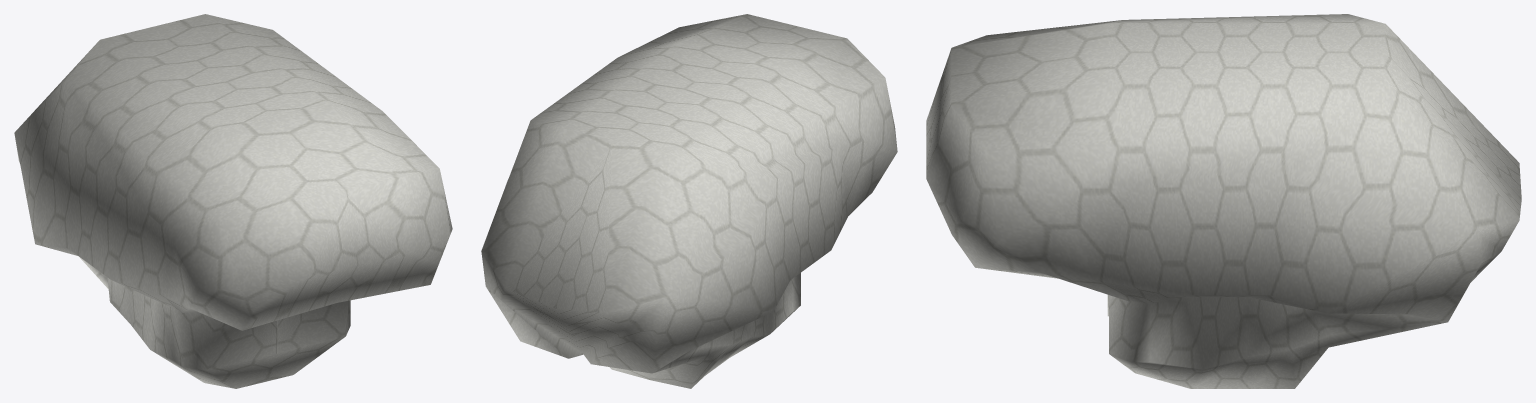
Rendered from 01body.obj.
3 views of the same model, side by side, from view 1: azimuth 30°, elevation 25°; view 2: azimuth 150°, elevation 25°; view 3: azimuth 270°, elevation 25° (orthographic). The views are drawn at different scales.
Parts seen in each view (by area): view 1: Box001; view 2: Box001; view 3: Box001.
Boxes of the visible parts, x1,y1,x2,y2 form: Box001: (14, 14, 452, 388); Box001: (481, 14, 897, 388); Box001: (926, 14, 1521, 388).
Size of the model in its own units: 2.21 by 2.09 by 3.55.
